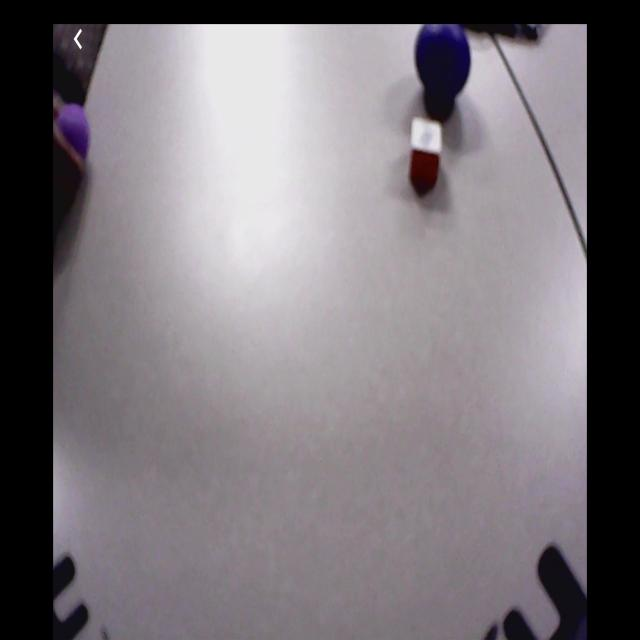ball: (416, 24, 472, 104), (55, 104, 90, 165)
